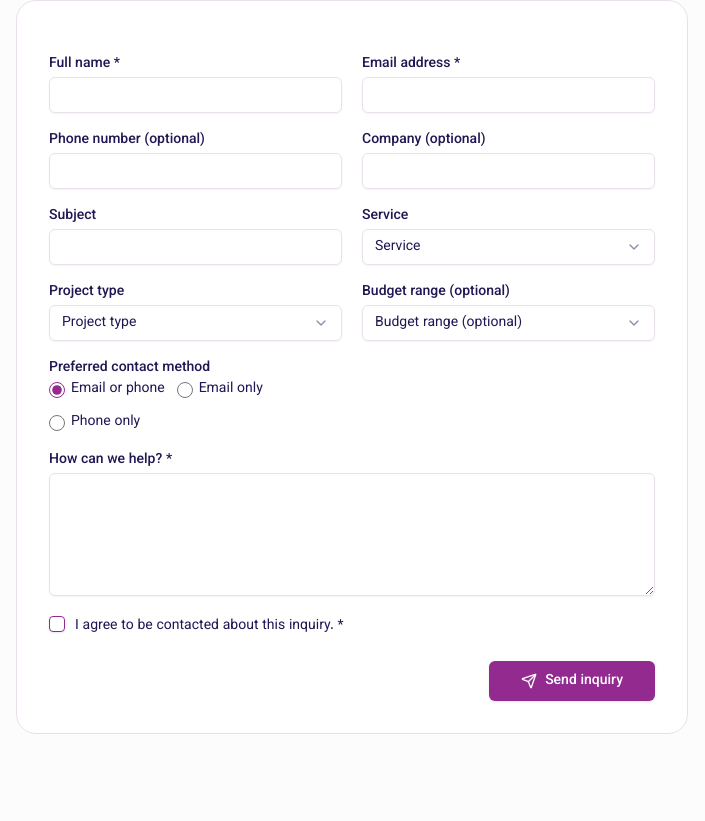
Test case: ContactForm › shows localized validation errors for an empty submit
This screenshot has width=705, height=821.
Click the button "Send inquiry" at (572, 681), box [489,661,655,701]
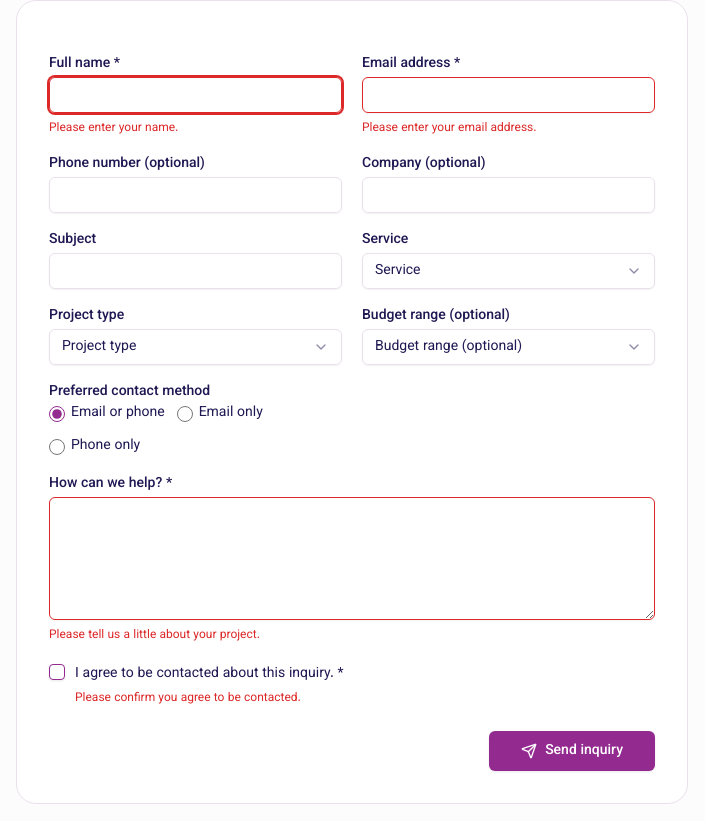
expect the text "Please enter your name." is shown: met, box [49,119,178,137]
expect the text "Please enter your email address." is shown: met, box [362,119,537,137]
